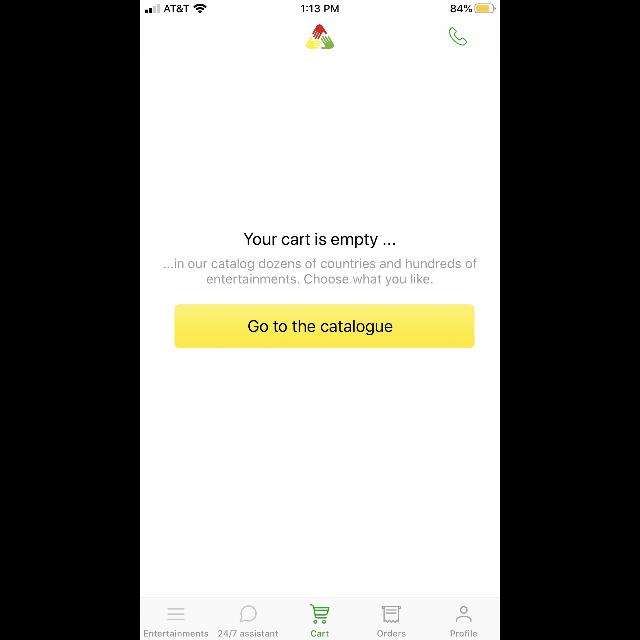icon: (310, 604, 330, 624), (381, 606, 401, 622), (456, 606, 472, 622), (240, 606, 256, 622), (168, 608, 185, 620)
image: (306, 25, 334, 49), (449, 28, 467, 46)
text: (164, 258, 476, 286), (244, 232, 396, 248), (218, 630, 278, 638), (144, 630, 208, 636), (378, 630, 406, 636), (451, 630, 477, 636), (312, 630, 328, 636)
textbutton: (175, 304, 475, 348)
uppertaskbar: (140, 0, 500, 14)
